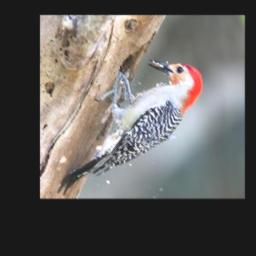Woodpecker: (59, 60, 202, 192)
